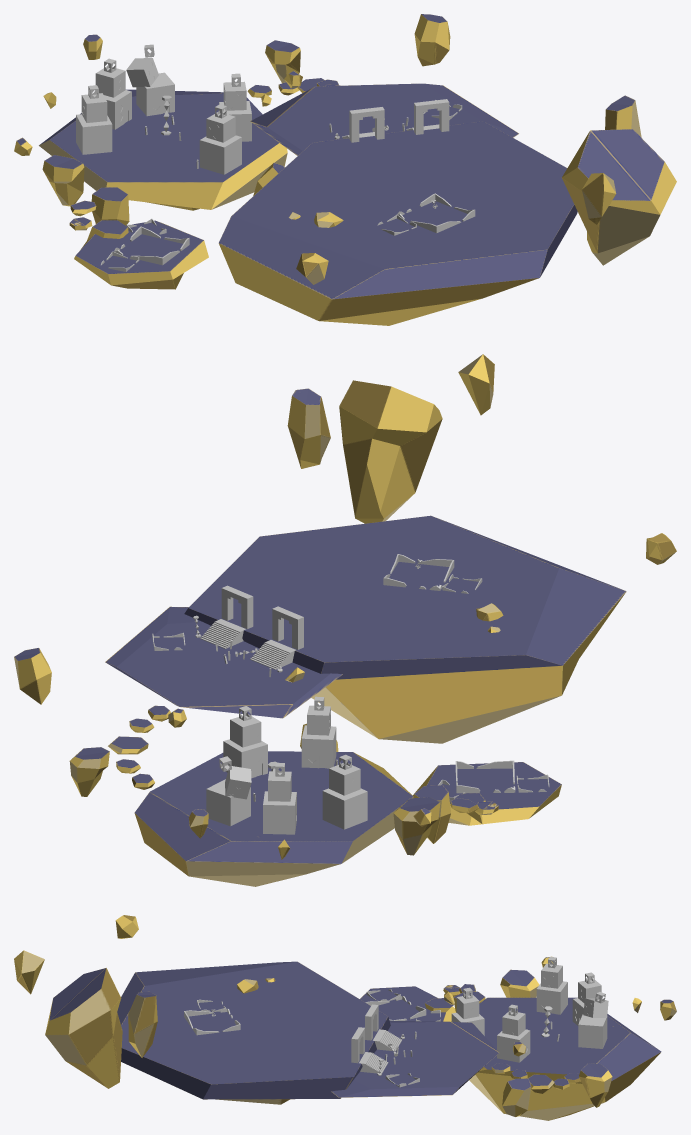
File: planeta-cidade.fbx
3 views of the same model, one above another, from view 1: azimuth 30°, elevation 25°; view 2: azimuth 150°, elevation 25°; view 3: azimuth 270°, elevation 25° (orthographic). The views are drawn at different scales.
Parts seen in each view (by area): view 1: planeta-cidade, edificios; view 2: planeta-cidade, edificios; view 3: planeta-cidade, edificios.
Boxes of the visible parts, x1,y1,x2,y2 form: planeta-cidade: (14,14,676,325); edificios: (76,44,475,271); planeta-cidade: (14,354,676,886); edificios: (152,554,549,834); planeta-cidade: (14,915,676,1120); edificios: (184,956,608,1087).
Size of the model in its own units: 1662 by 871 by 2655.
